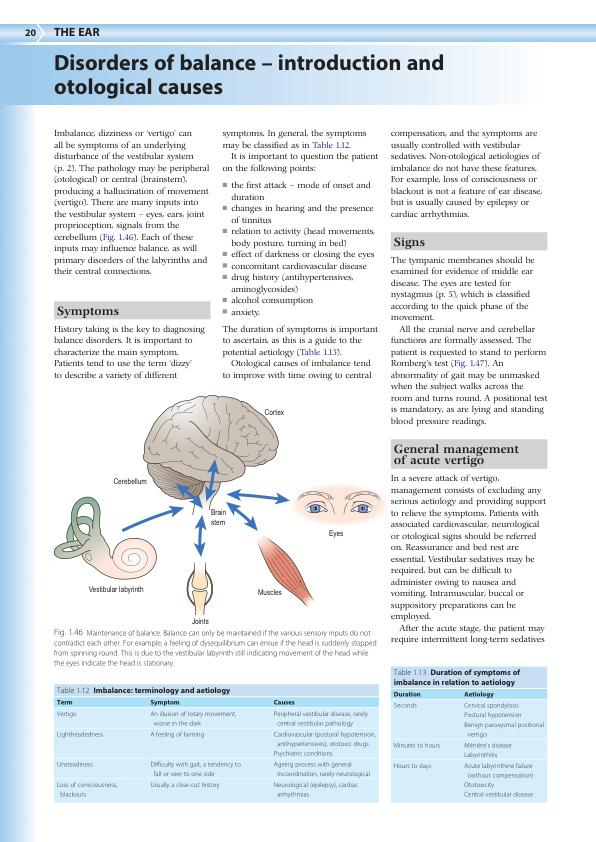caption: (53, 627, 377, 669), (392, 668, 522, 688), (56, 686, 231, 695)
chapter-heading: (53, 52, 445, 101)
header: (52, 26, 102, 37)
image: (51, 388, 388, 626), (391, 689, 547, 804)
list: (220, 179, 376, 319)
section-heading: (392, 443, 521, 468), (56, 305, 120, 320), (393, 236, 426, 250)
table: (54, 696, 379, 804)
text: (389, 255, 549, 427), (389, 473, 546, 646), (52, 127, 211, 277), (389, 128, 544, 221), (221, 324, 379, 382), (53, 324, 207, 382), (220, 127, 379, 175)
